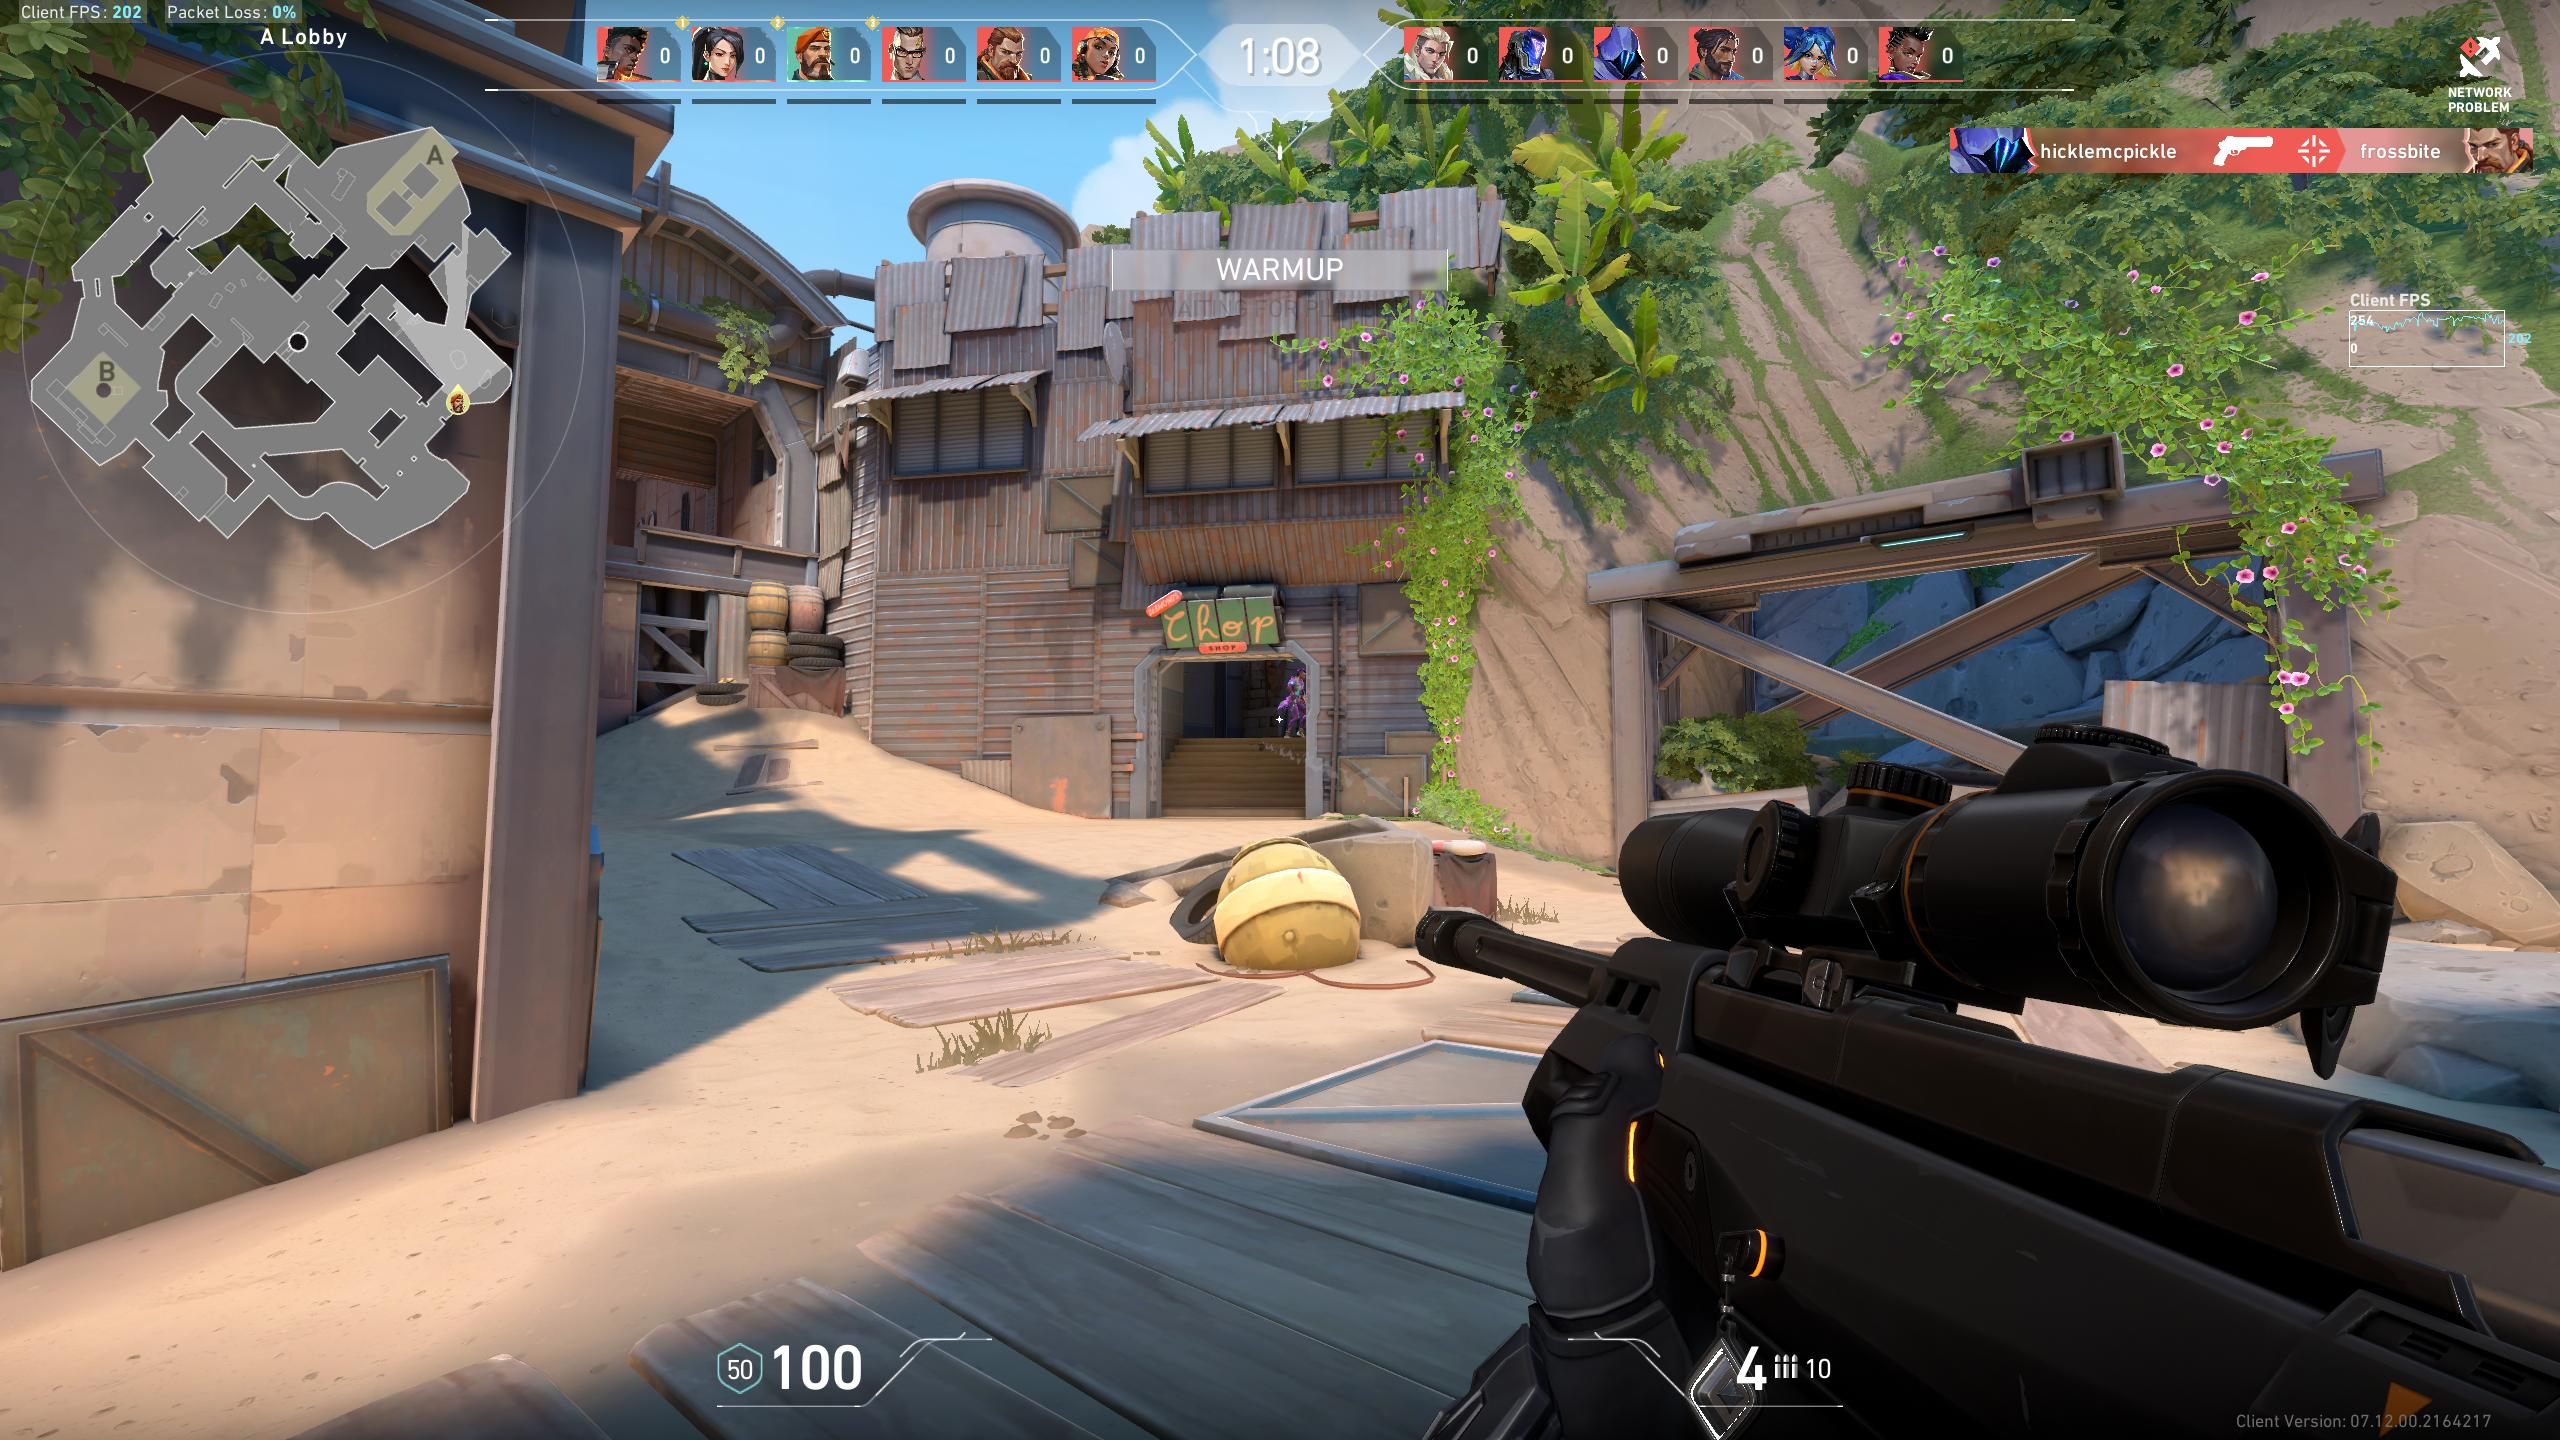enemyBody: (1284, 677, 1310, 723)
